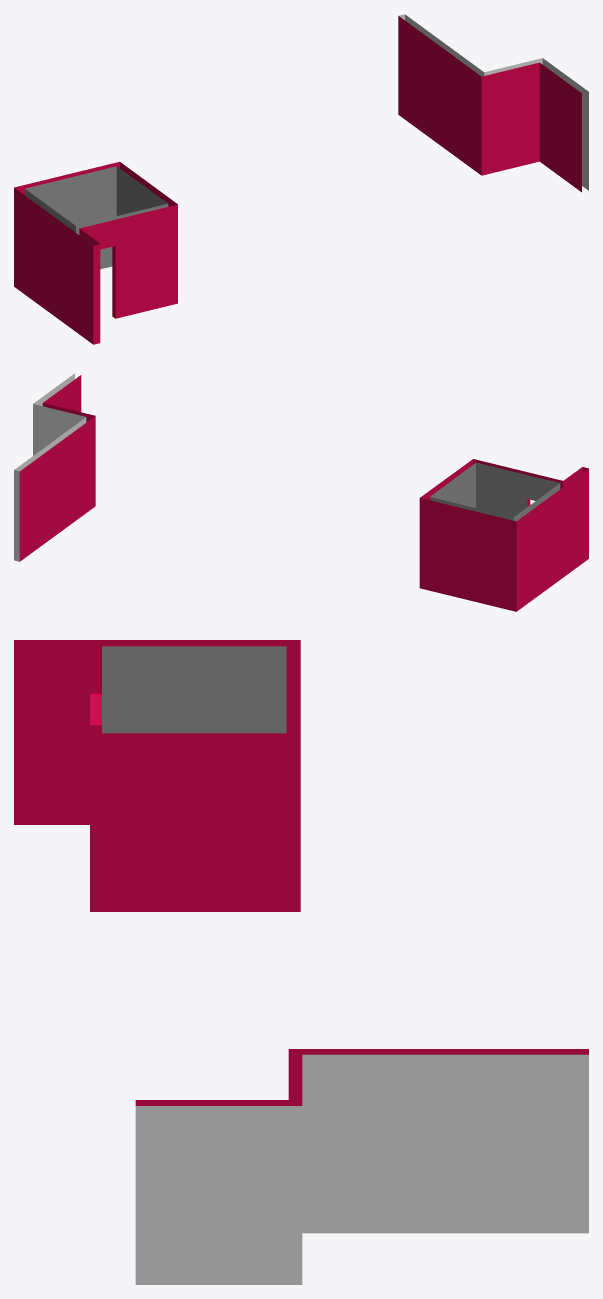
Rendered from Pared 7.fbx.
3 renders of one model, top to bottom at view 1: azimuth 30°, elevation 25°; view 2: azimuth 150°, elevation 25°; view 3: azimuth 270°, elevation 25°, orthographic. The views are drawn at different scales.
Parts seen in each view (by area): view 1: Pared_7; view 2: Pared_7; view 3: Pared_7.
Boxes of the visible parts, <box> form: Pared_7: <box>14,14,588,344</box>; Pared_7: <box>14,373,588,611</box>; Pared_7: <box>14,640,588,1284</box>.
Size of the model in its own units: 1675 by 300 by 873.
